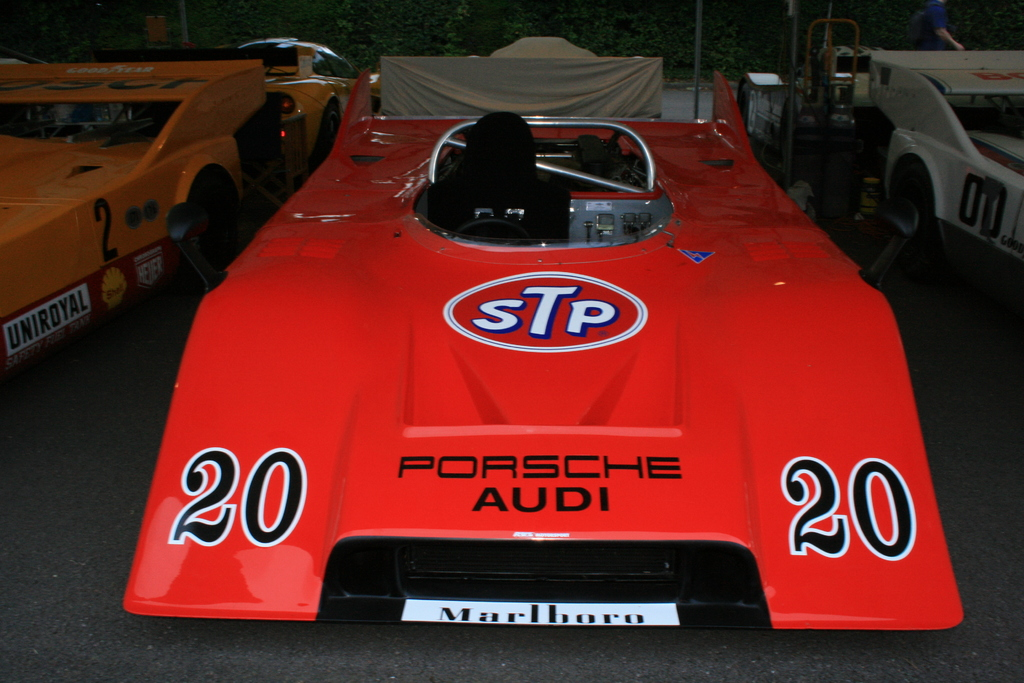Car: (122, 35, 965, 622), (0, 58, 280, 370), (867, 48, 1023, 260), (239, 39, 362, 173)
